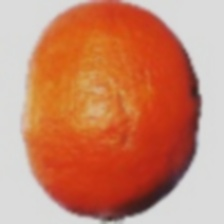tangerine: (8, 47, 205, 193)
